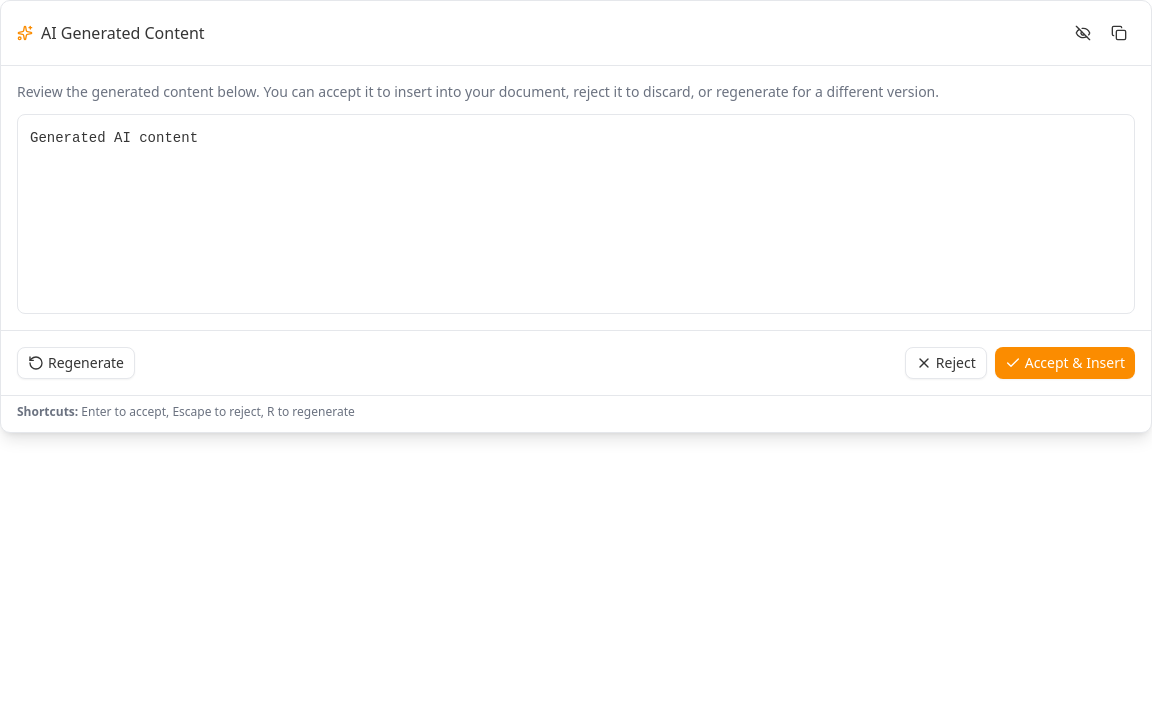
AIContentConfirmation › should toggle preview when preview button is clicked
expect the text "Generated AI content" is shown: met, box [30, 130, 198, 146]
Click the button named "Hide preview" at coordinates (1083, 33), box [1067, 17, 1099, 49]
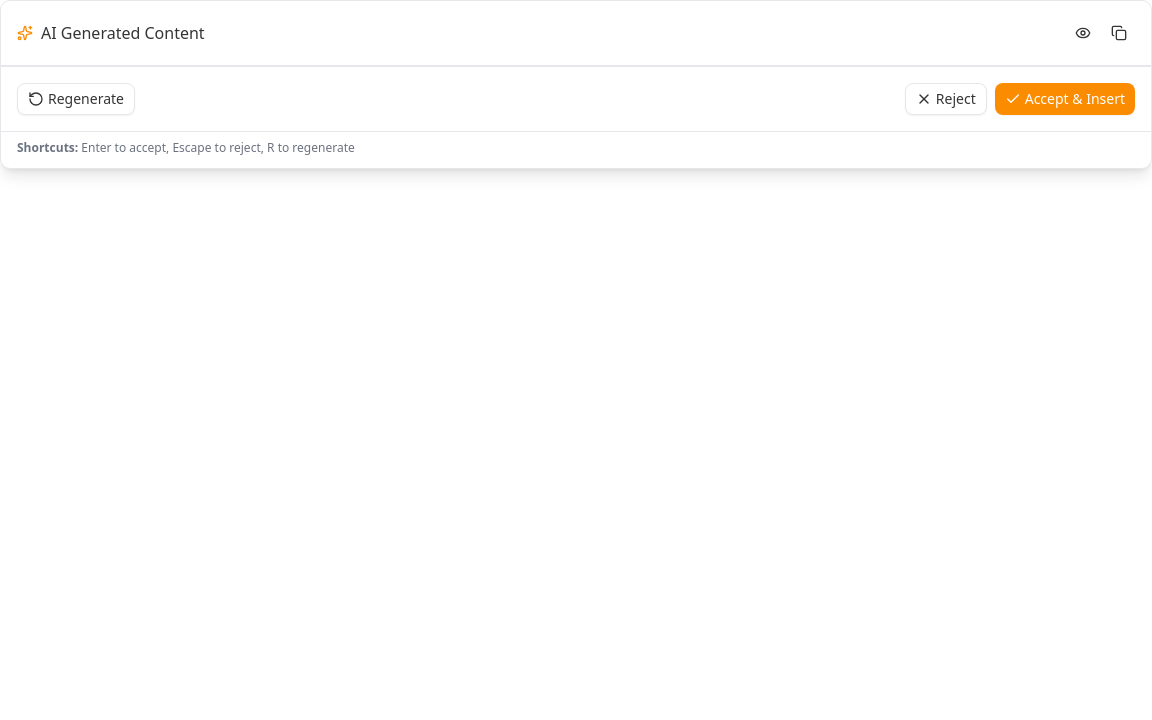
expect the text "Generated AI content" is gone: met
expect the button named "Show preview" is shown: met
Click the button named "Show preview" at coordinates (1083, 33), box [1067, 17, 1099, 49]
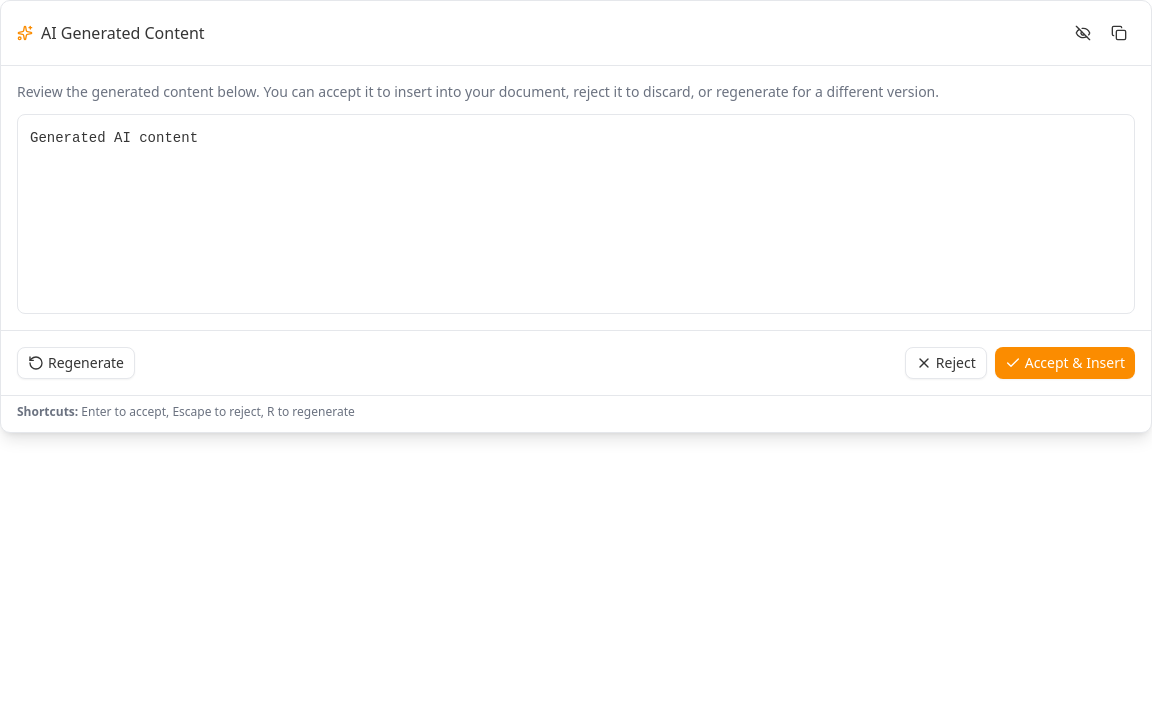
expect the text "Generated AI content" is shown: met, box [30, 130, 198, 146]
